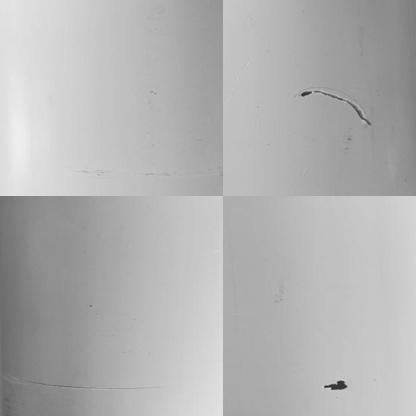fengxi: (295, 82, 384, 132)
kongdong: (319, 376, 349, 393)
